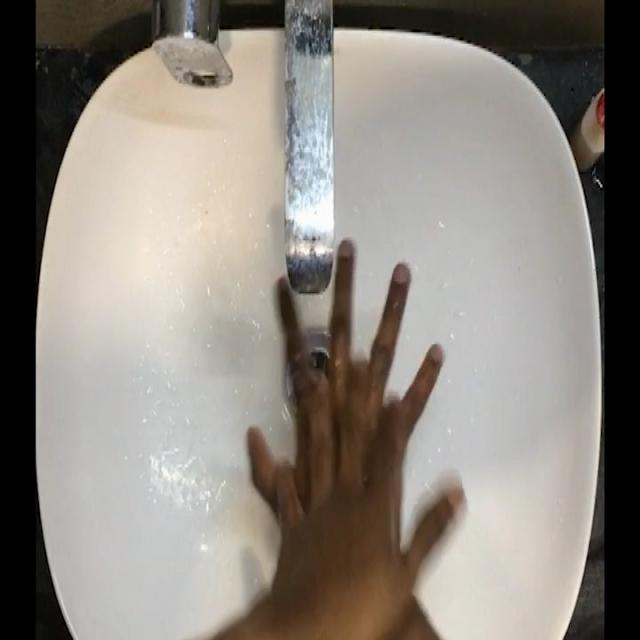step_2: (237, 224, 448, 548)
